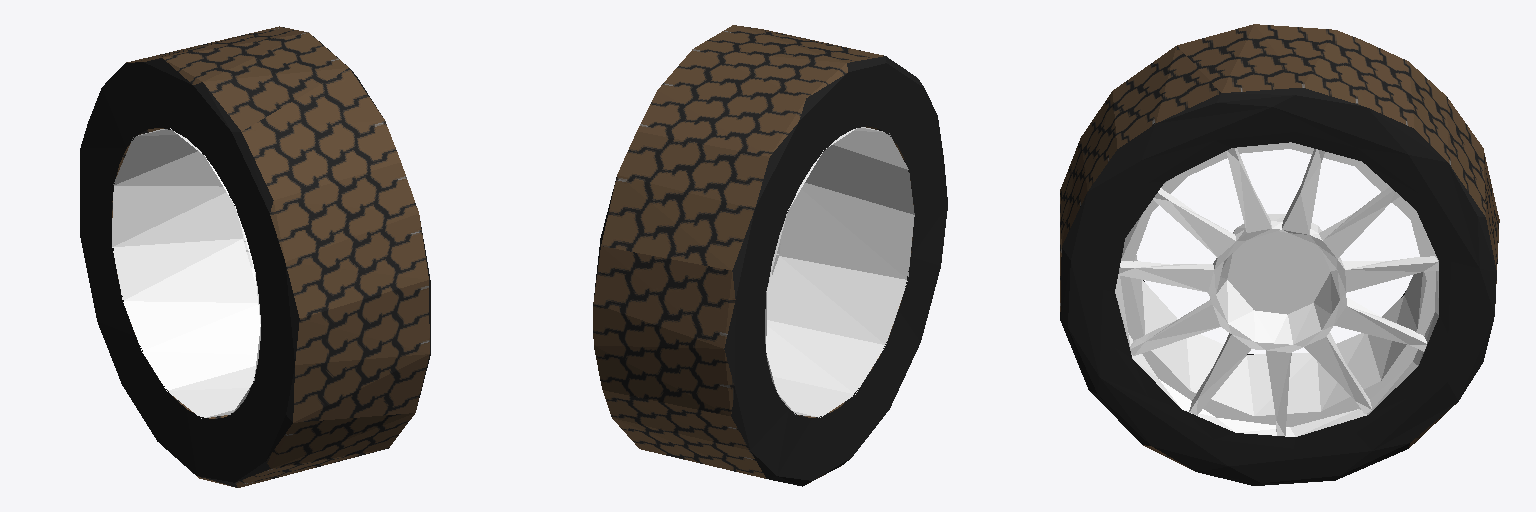
The picture shows the model from 3 angles: view 1: azimuth 30°, elevation 25°; view 2: azimuth 150°, elevation 25°; view 3: azimuth 270°, elevation 25°; orthographic projection.
Parts seen in each view (by area): view 1: Wheel_Untitled.082; view 2: Wheel_Untitled.082; view 3: Wheel_Untitled.082.
Part boxes in pixels (left/top/right/bottom): Wheel_Untitled.082: left=80, top=26, right=430, bottom=487; Wheel_Untitled.082: left=593, top=25, right=947, bottom=486; Wheel_Untitled.082: left=1060, top=24, right=1499, bottom=485.
Size of the model in its own units: 0.2547 by 0.6784 by 0.6766.
Materials: 1 (1 with a texture image).